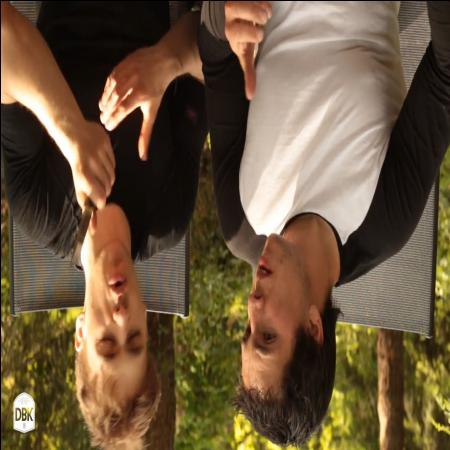long weapon: (59, 150, 118, 286)
